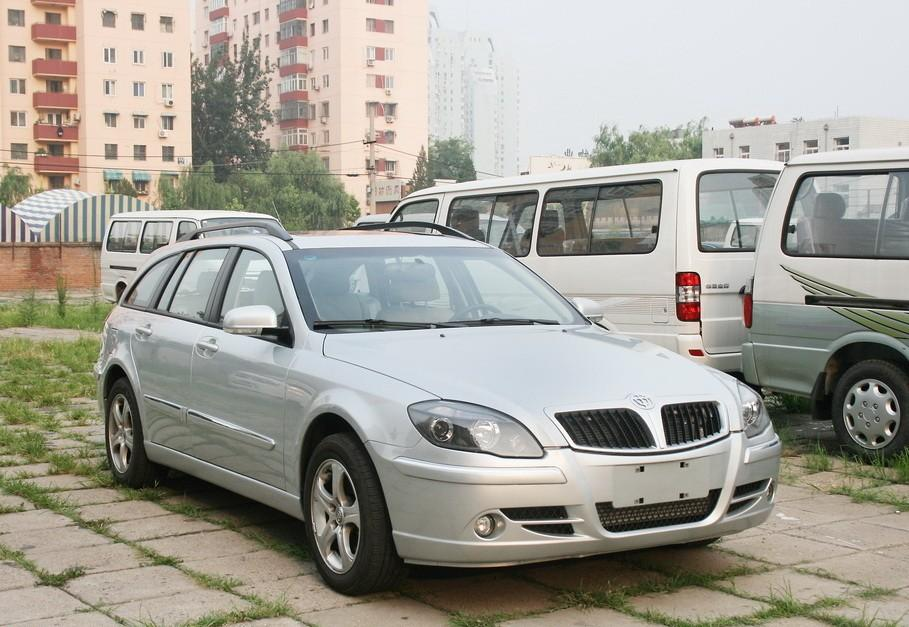Wagon: (95, 220, 782, 597)
